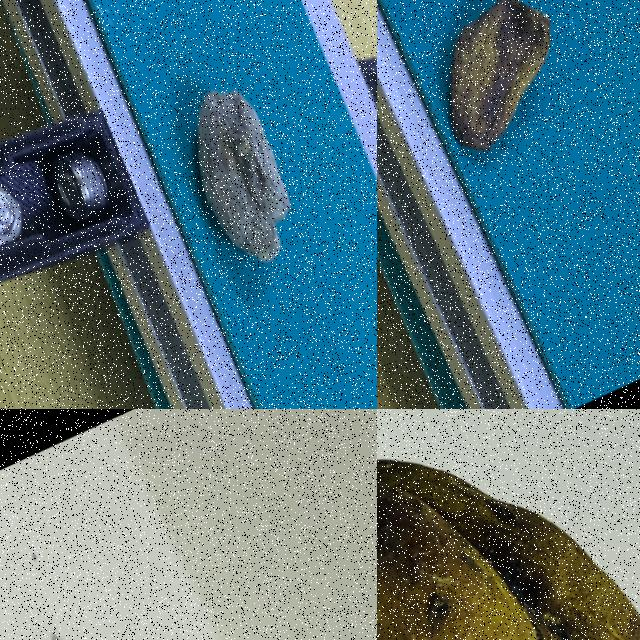Agglomerated_cocoabeans: (89, 0, 376, 363), (377, 409, 639, 639)
Flat_cocoabeans: (377, 0, 639, 241), (0, 538, 260, 639)
